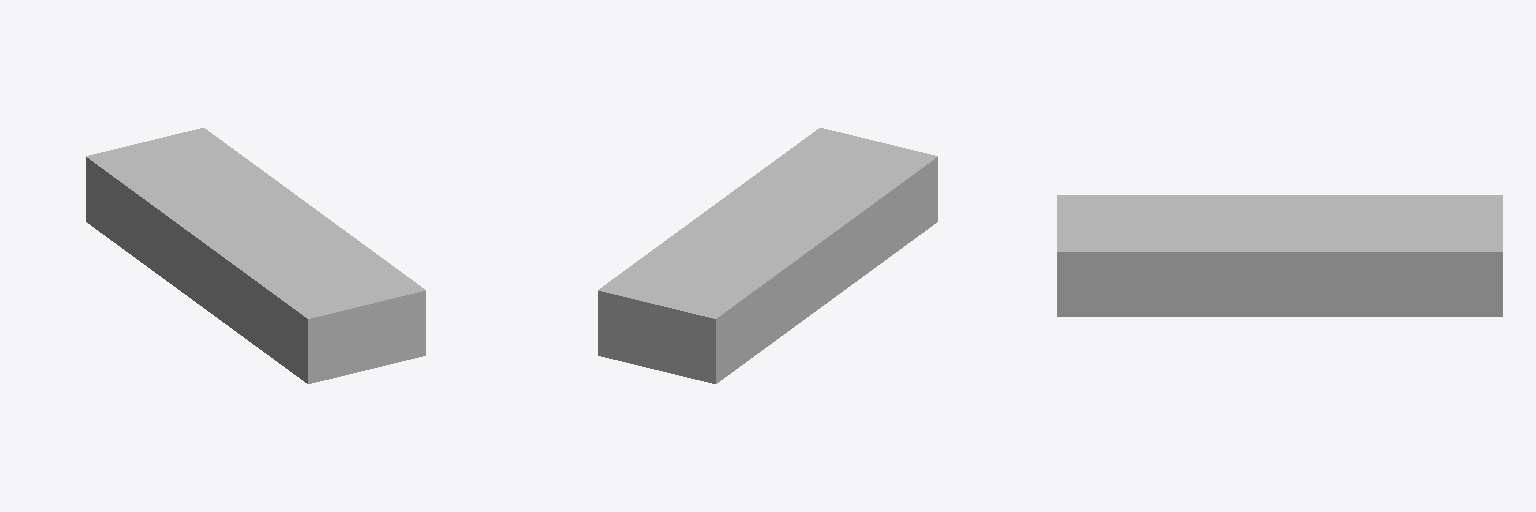
Rendered from RightColl.obj.
The picture shows the model from 3 angles: view 1: azimuth 30°, elevation 25°; view 2: azimuth 150°, elevation 25°; view 3: azimuth 270°, elevation 25°; orthographic projection.
Visible parts, largest first — view 1: Box03; view 2: Box03; view 3: Box03.
Boxes of the visible parts, <box> form: Box03: <box>86,128,425,383</box>; Box03: <box>598,128,937,383</box>; Box03: <box>1057,195,1502,316</box>.
Size of the model in its own units: 0.36 by 0.1897 by 1.17.